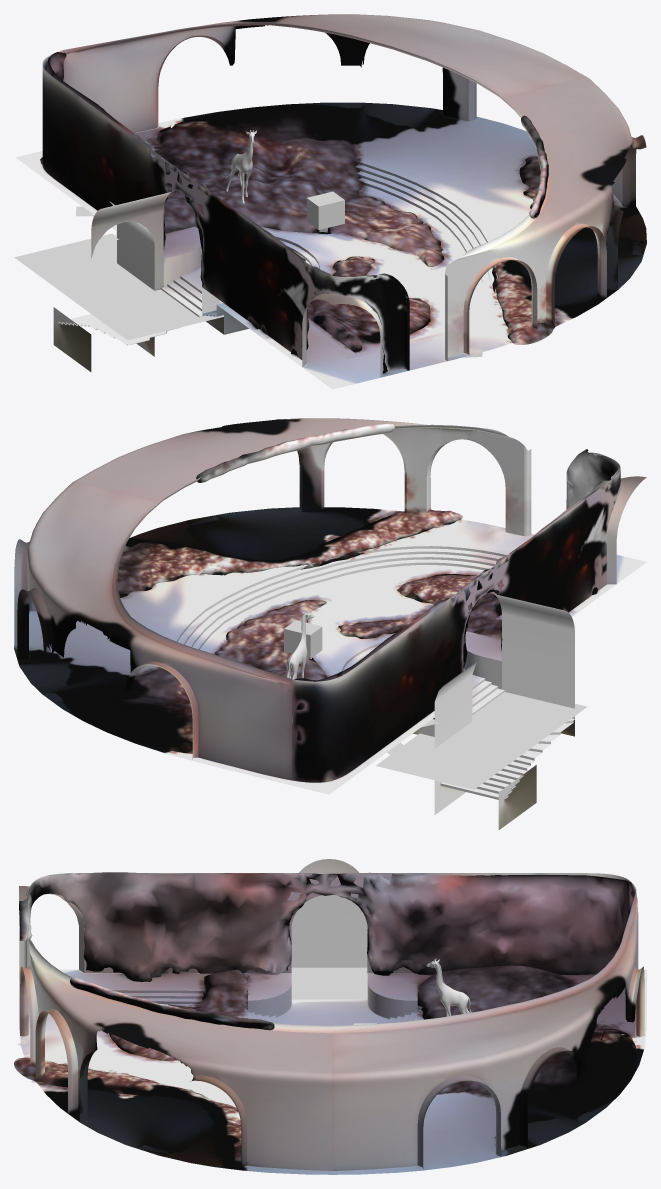
The picture shows the model from 3 angles, top to bottom: view 1: azimuth 30°, elevation 25°; view 2: azimuth 150°, elevation 25°; view 3: azimuth 270°, elevation 25°; orthographic projection.
Visible parts, largest first — view 1: arch-int.005, arch-int.001, mousse, arch-int.004, water, arch-int.006, bag-wrapper, girafe_LOW; view 2: arch-int.005, arch-int.001, mousse, arch-int.004, arch-int.006, water, bag-wrapper, girafe_LOW; view 3: mousse, arch-int.005, arch-int.001, arch-int.004, arch-int.003, water, girafe_LOW.
Boxes of the visible parts, x1,y1,x2,y2 form: arch-int.005: (42, 14, 646, 376); arch-int.001: (16, 102, 646, 389); mousse: (40, 52, 624, 373); arch-int.004: (63, 29, 632, 356); water: (14, 233, 223, 340); arch-int.006: (91, 191, 172, 356); bag-wrapper: (306, 191, 344, 229); girafe_LOW: (224, 130, 256, 203); arch-int.005: (14, 418, 646, 782); arch-int.001: (14, 507, 646, 829); mousse: (110, 423, 620, 781); arch-int.004: (27, 430, 523, 780); arch-int.006: (434, 594, 574, 814); water: (376, 692, 587, 789); bag-wrapper: (284, 620, 322, 658); girafe_LOW: (286, 610, 314, 679); mousse: (14, 872, 636, 1163); arch-int.005: (19, 873, 644, 1169); arch-int.001: (19, 969, 646, 1174); arch-int.004: (27, 925, 638, 1170); arch-int.003: (291, 859, 367, 967); water: (291, 967, 367, 999); girafe_LOW: (426, 958, 471, 1016).
Bounding box in the file's own units: 5.06 × 1.94 × 5.63.
10 materials, 6 textured.
